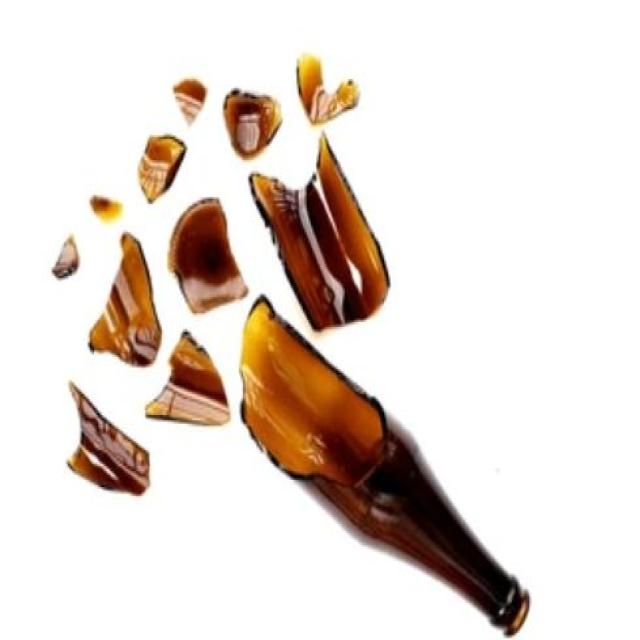electronic: (43, 47, 532, 640)
